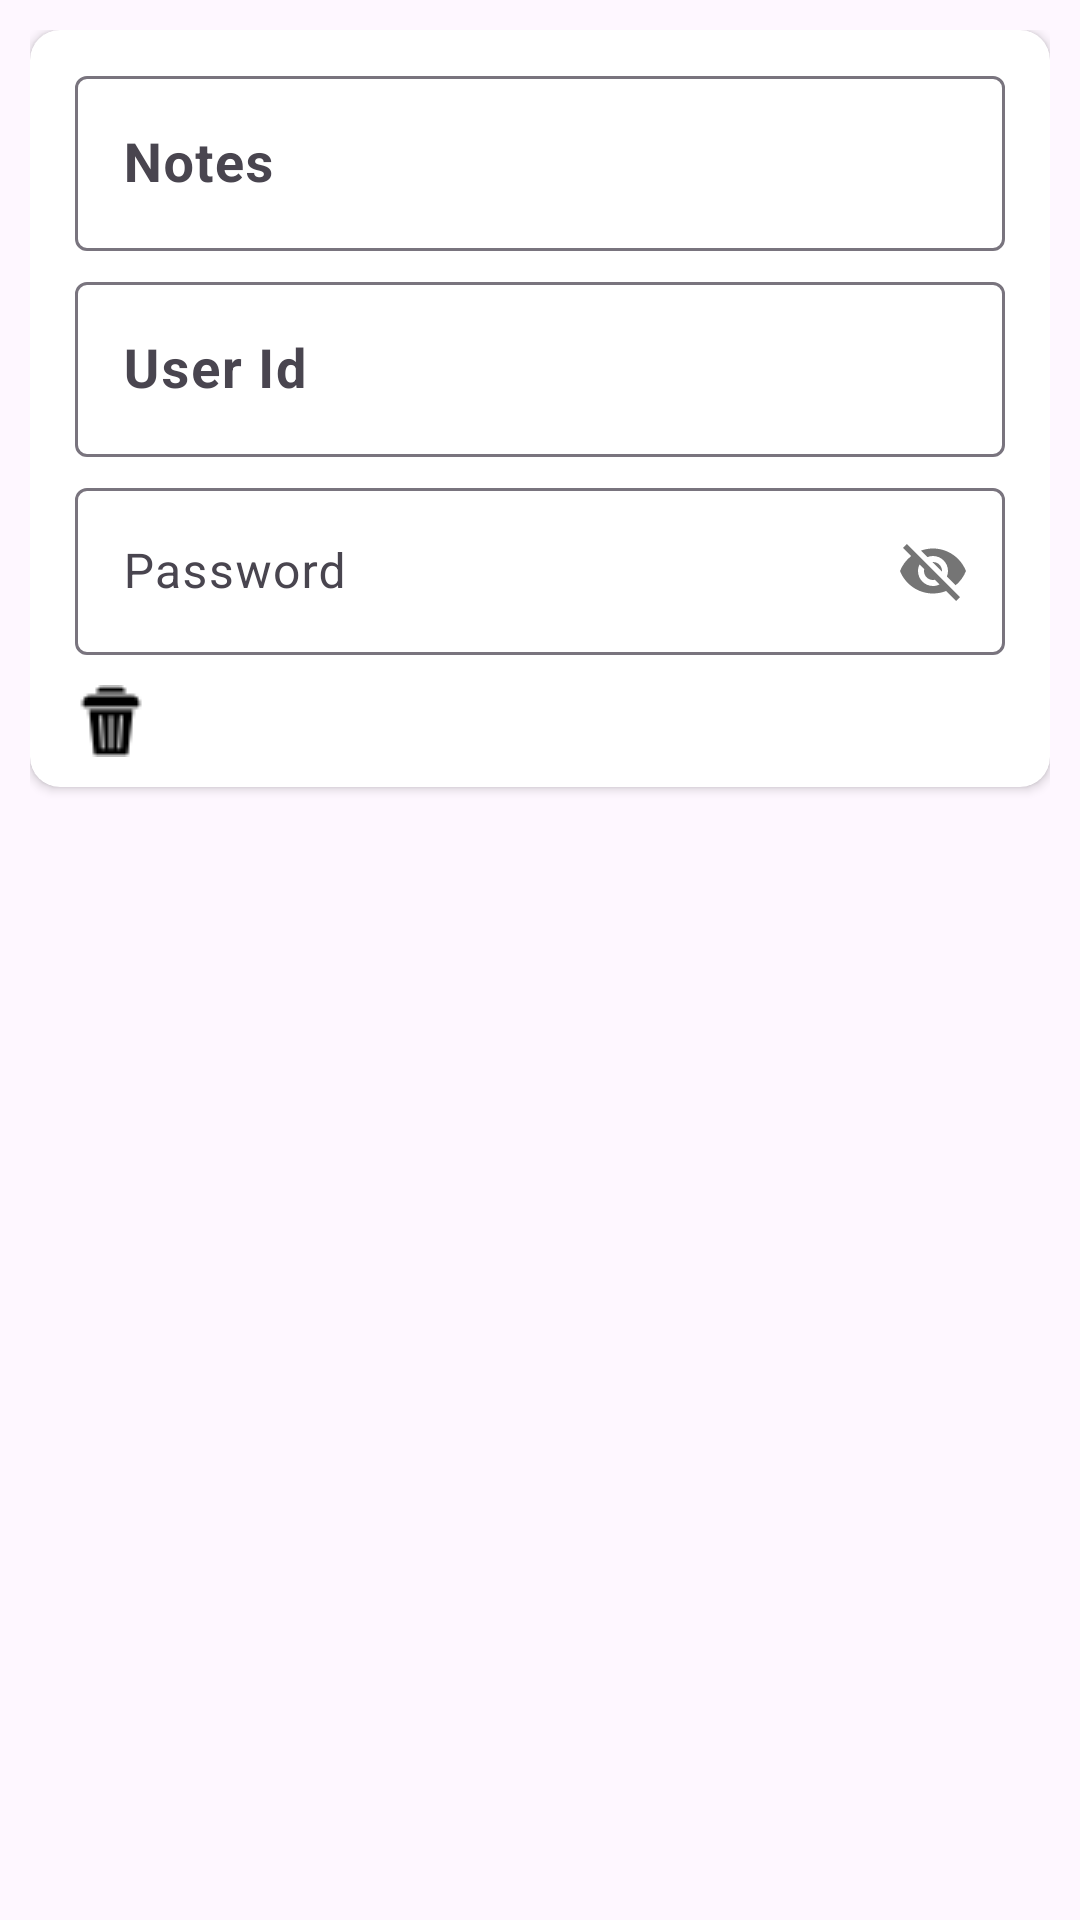

Point at icon controls on the screen. Image size 1080 × 1920, points as (x=x, y=y).
dustbin: (x=111, y=721)
